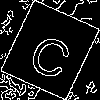C: (25, 25, 79, 82)
